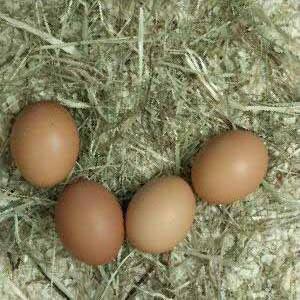egg: (9, 100, 80, 188), (54, 179, 125, 266), (189, 131, 269, 204), (126, 175, 197, 254)
